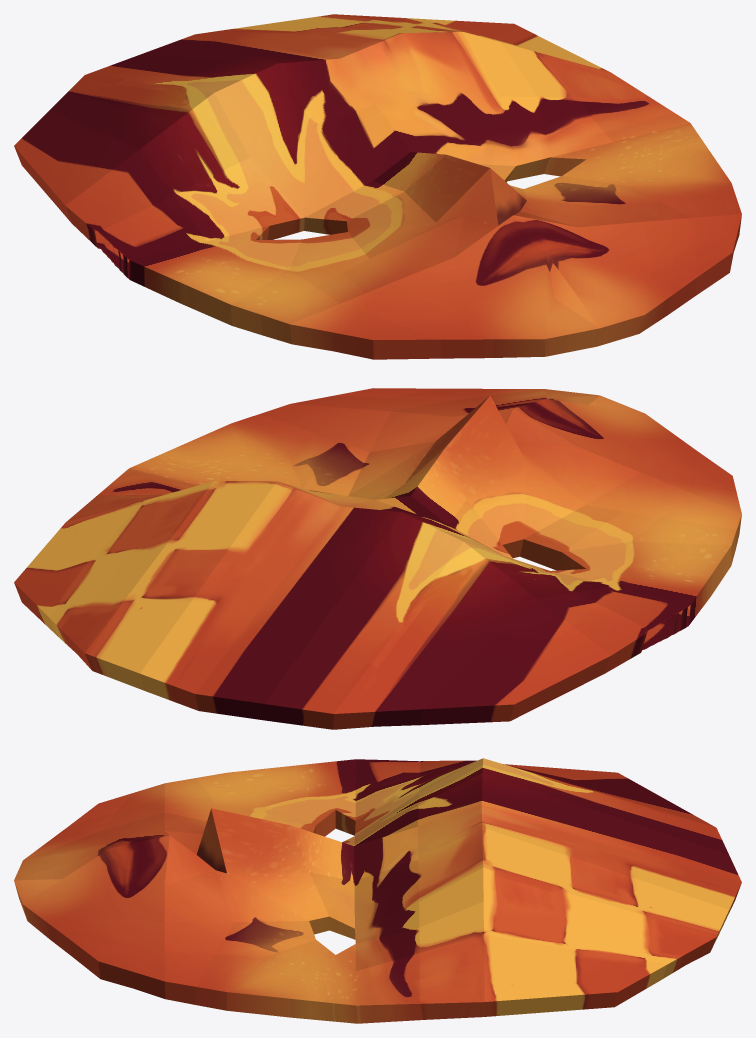
The model's file is firemask.fbx.
The picture shows the model from 3 angles, top to bottom: view 1: azimuth 30°, elevation 25°; view 2: azimuth 150°, elevation 25°; view 3: azimuth 270°, elevation 25°; orthographic projection. The views are drawn at different scales.
Parts seen in each view (by area): view 1: Plane; view 2: Plane; view 3: Plane.
Boxes of the visible parts, x1=… form: Plane: x1=14, y1=14, x2=741, y2=359; Plane: x1=14, y1=388, x2=741, y2=729; Plane: x1=14, y1=758, x2=741, y2=1023.
Bounding box in the file's own units: 224 × 42.98 × 280.
